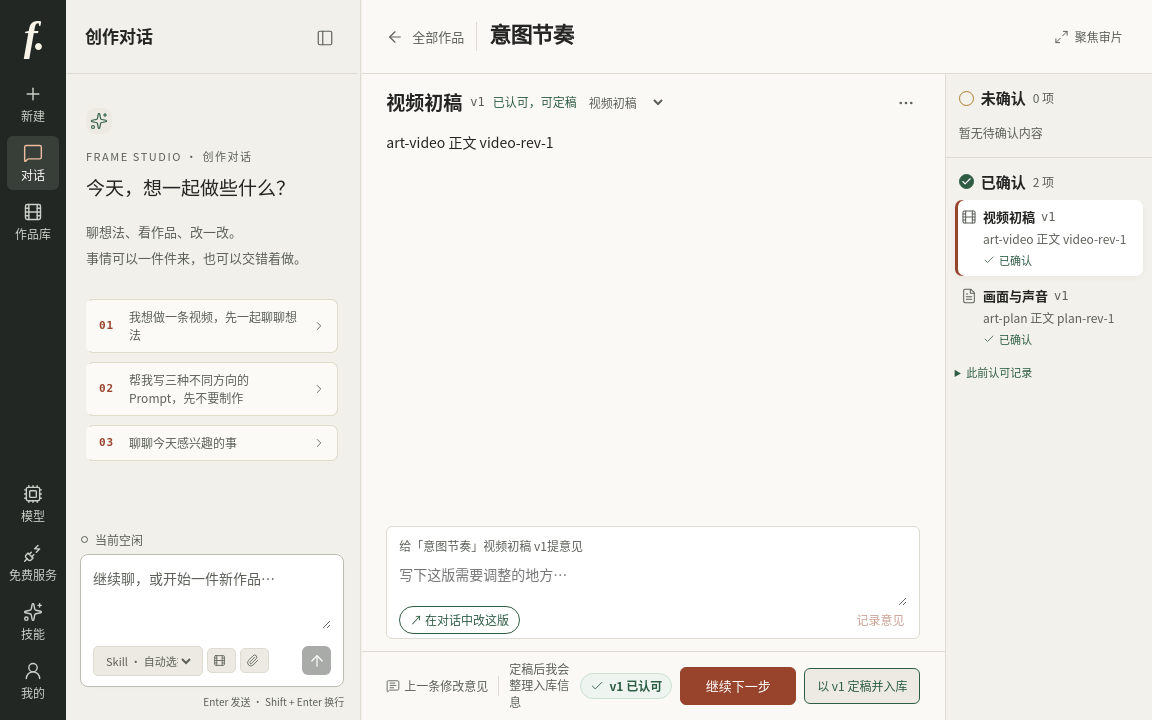
it: R2 组审阅工作台 › UIUX-08 组声明后续意图时继续下一步保持主按钮，定稿以次级呈现；非视频角色不出现底部定稿
The width and height of the screenshot is (1152, 720).
Expected: the text "已认可，可定稿" is shown, [493, 92, 577, 112]
Note: 切到已认可的非视频组：底部动作栏没有定稿入口。
Select "画面与声音" in the dropdown named "审阅组" at {"x": 625, "y": 102}, box [585, 92, 666, 112]
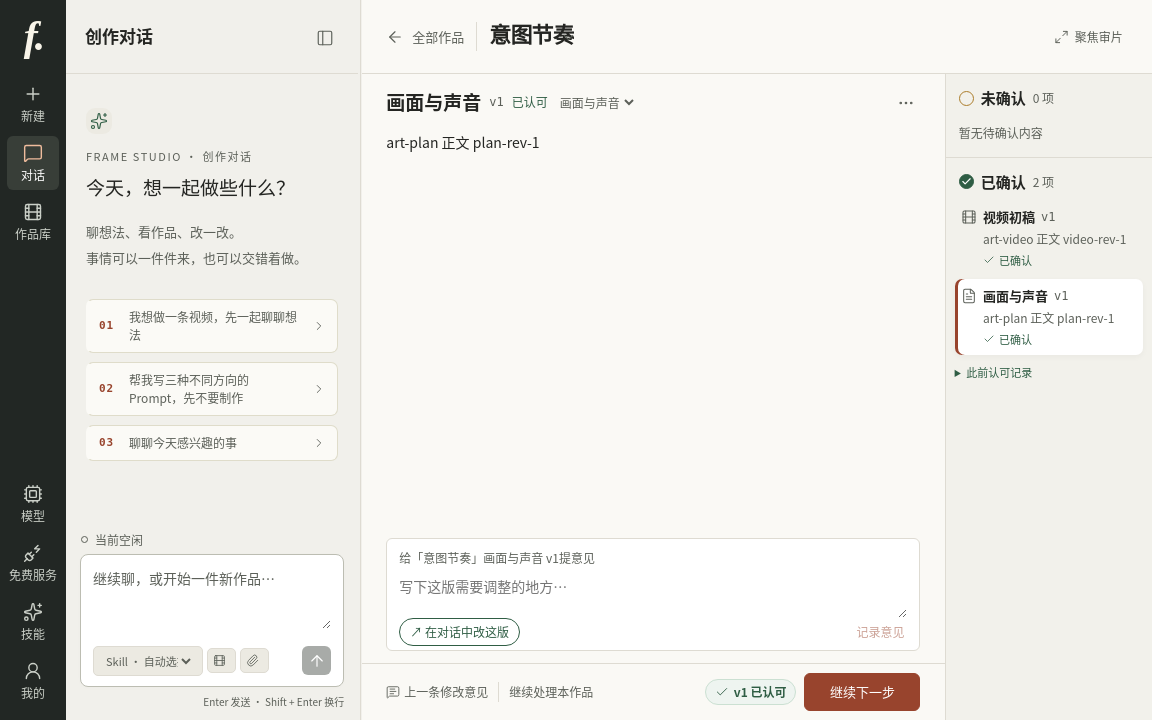
Expected: the button "继续下一步" is shown, [804, 673, 920, 711]
Expected: the button "定稿并入库" is gone
